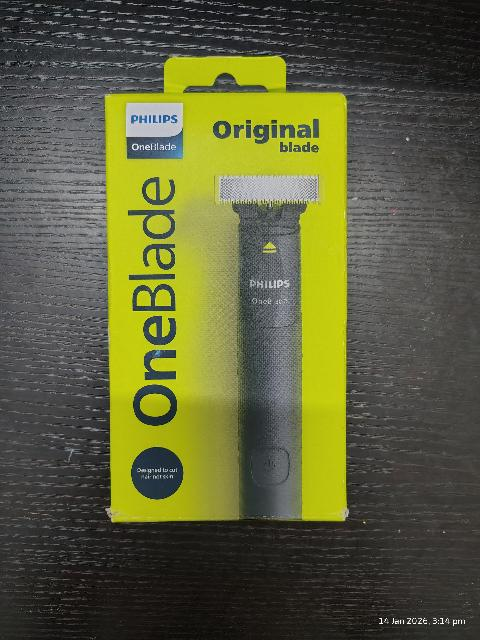phillips oneblade: (97, 55, 358, 535)
